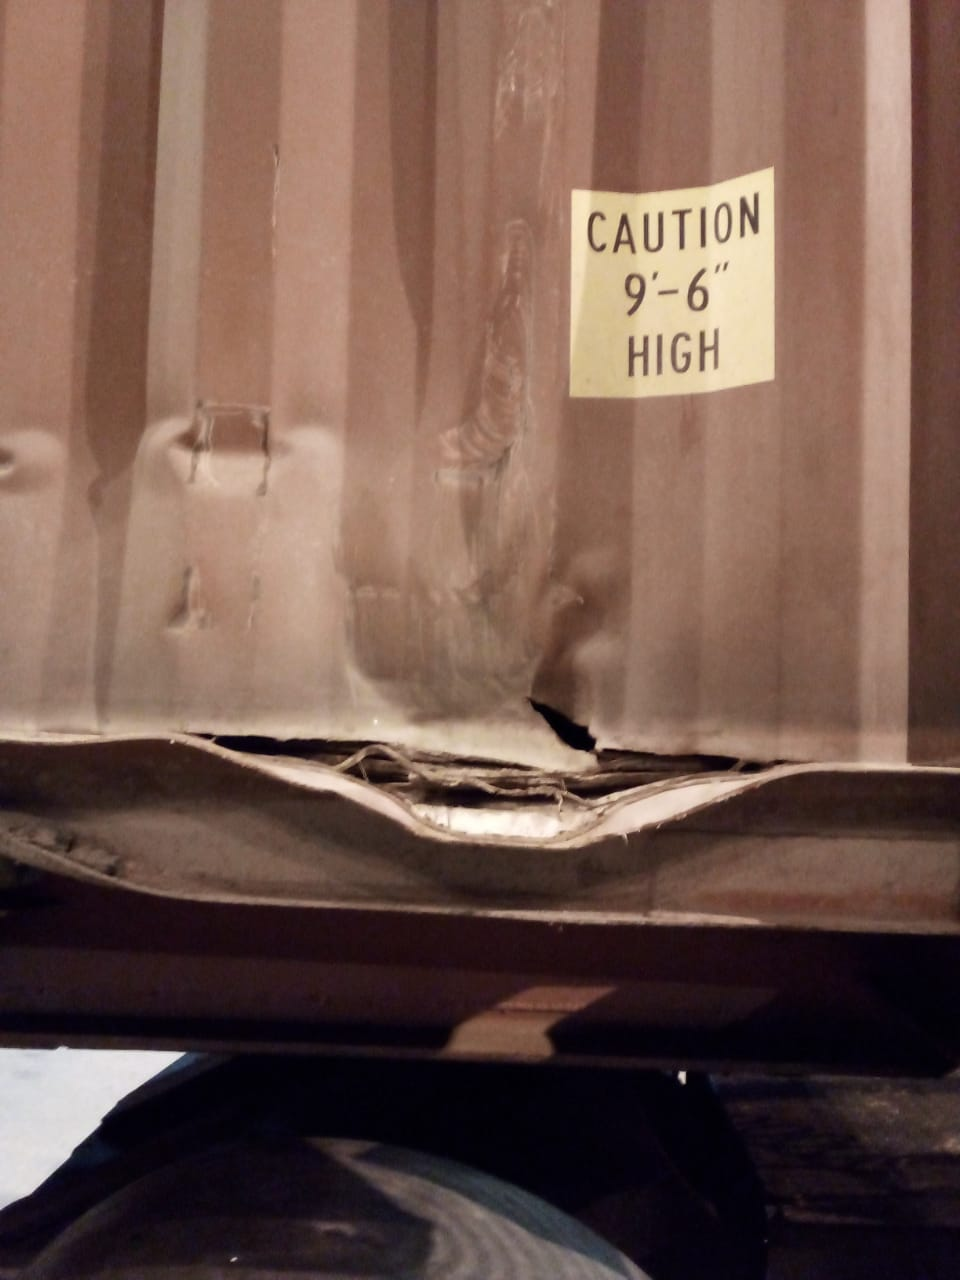dented: (145, 649, 826, 869), (1, 346, 390, 523)
